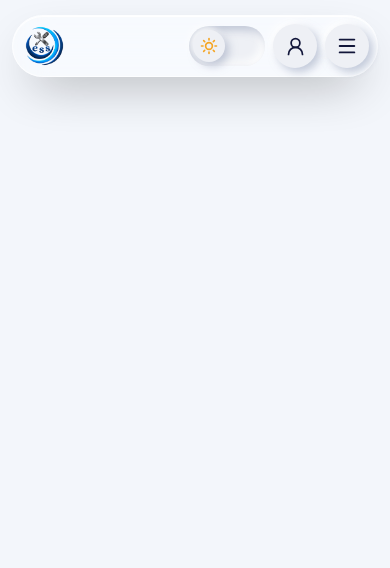
Scenario: SiteHeader page menu (phones and tablets) › opens a menu with every page and closes it again
The width and height of the screenshot is (390, 568).
Click the button named "Open menu".
click(347, 46)  # box [325, 24, 369, 68]
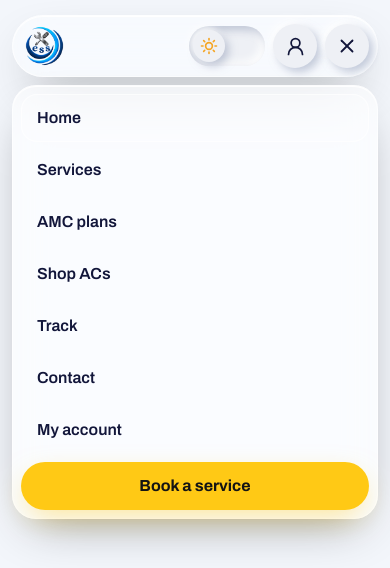
Check: the link "Home" is shown, box [21, 94, 369, 142]
Check: the link "Services" is shown, box [37, 161, 101, 178]
Check: the link "AMC plans" is shown, box [37, 213, 117, 230]
Click the button named "Close menu".
click(347, 46)  # box [325, 24, 369, 68]
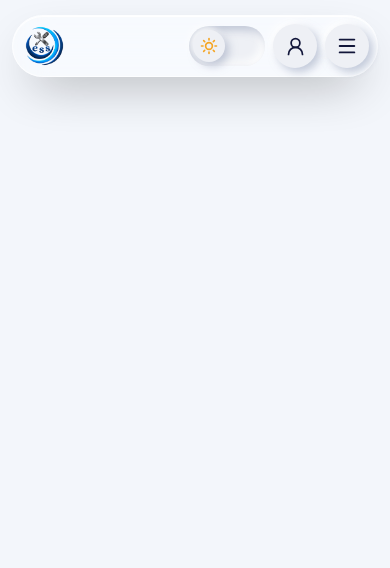
Check: the navigation bar "Pages" is gone
